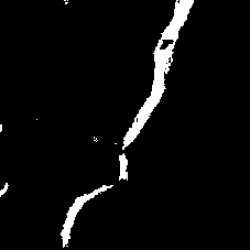crack: (59, 4, 193, 244)
pinhole: (92, 131, 100, 145)
